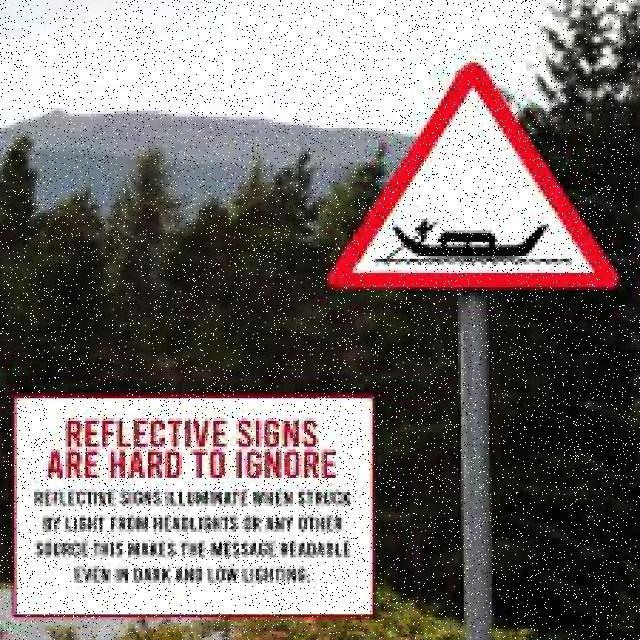Traffic sign: (320, 57, 624, 300)
